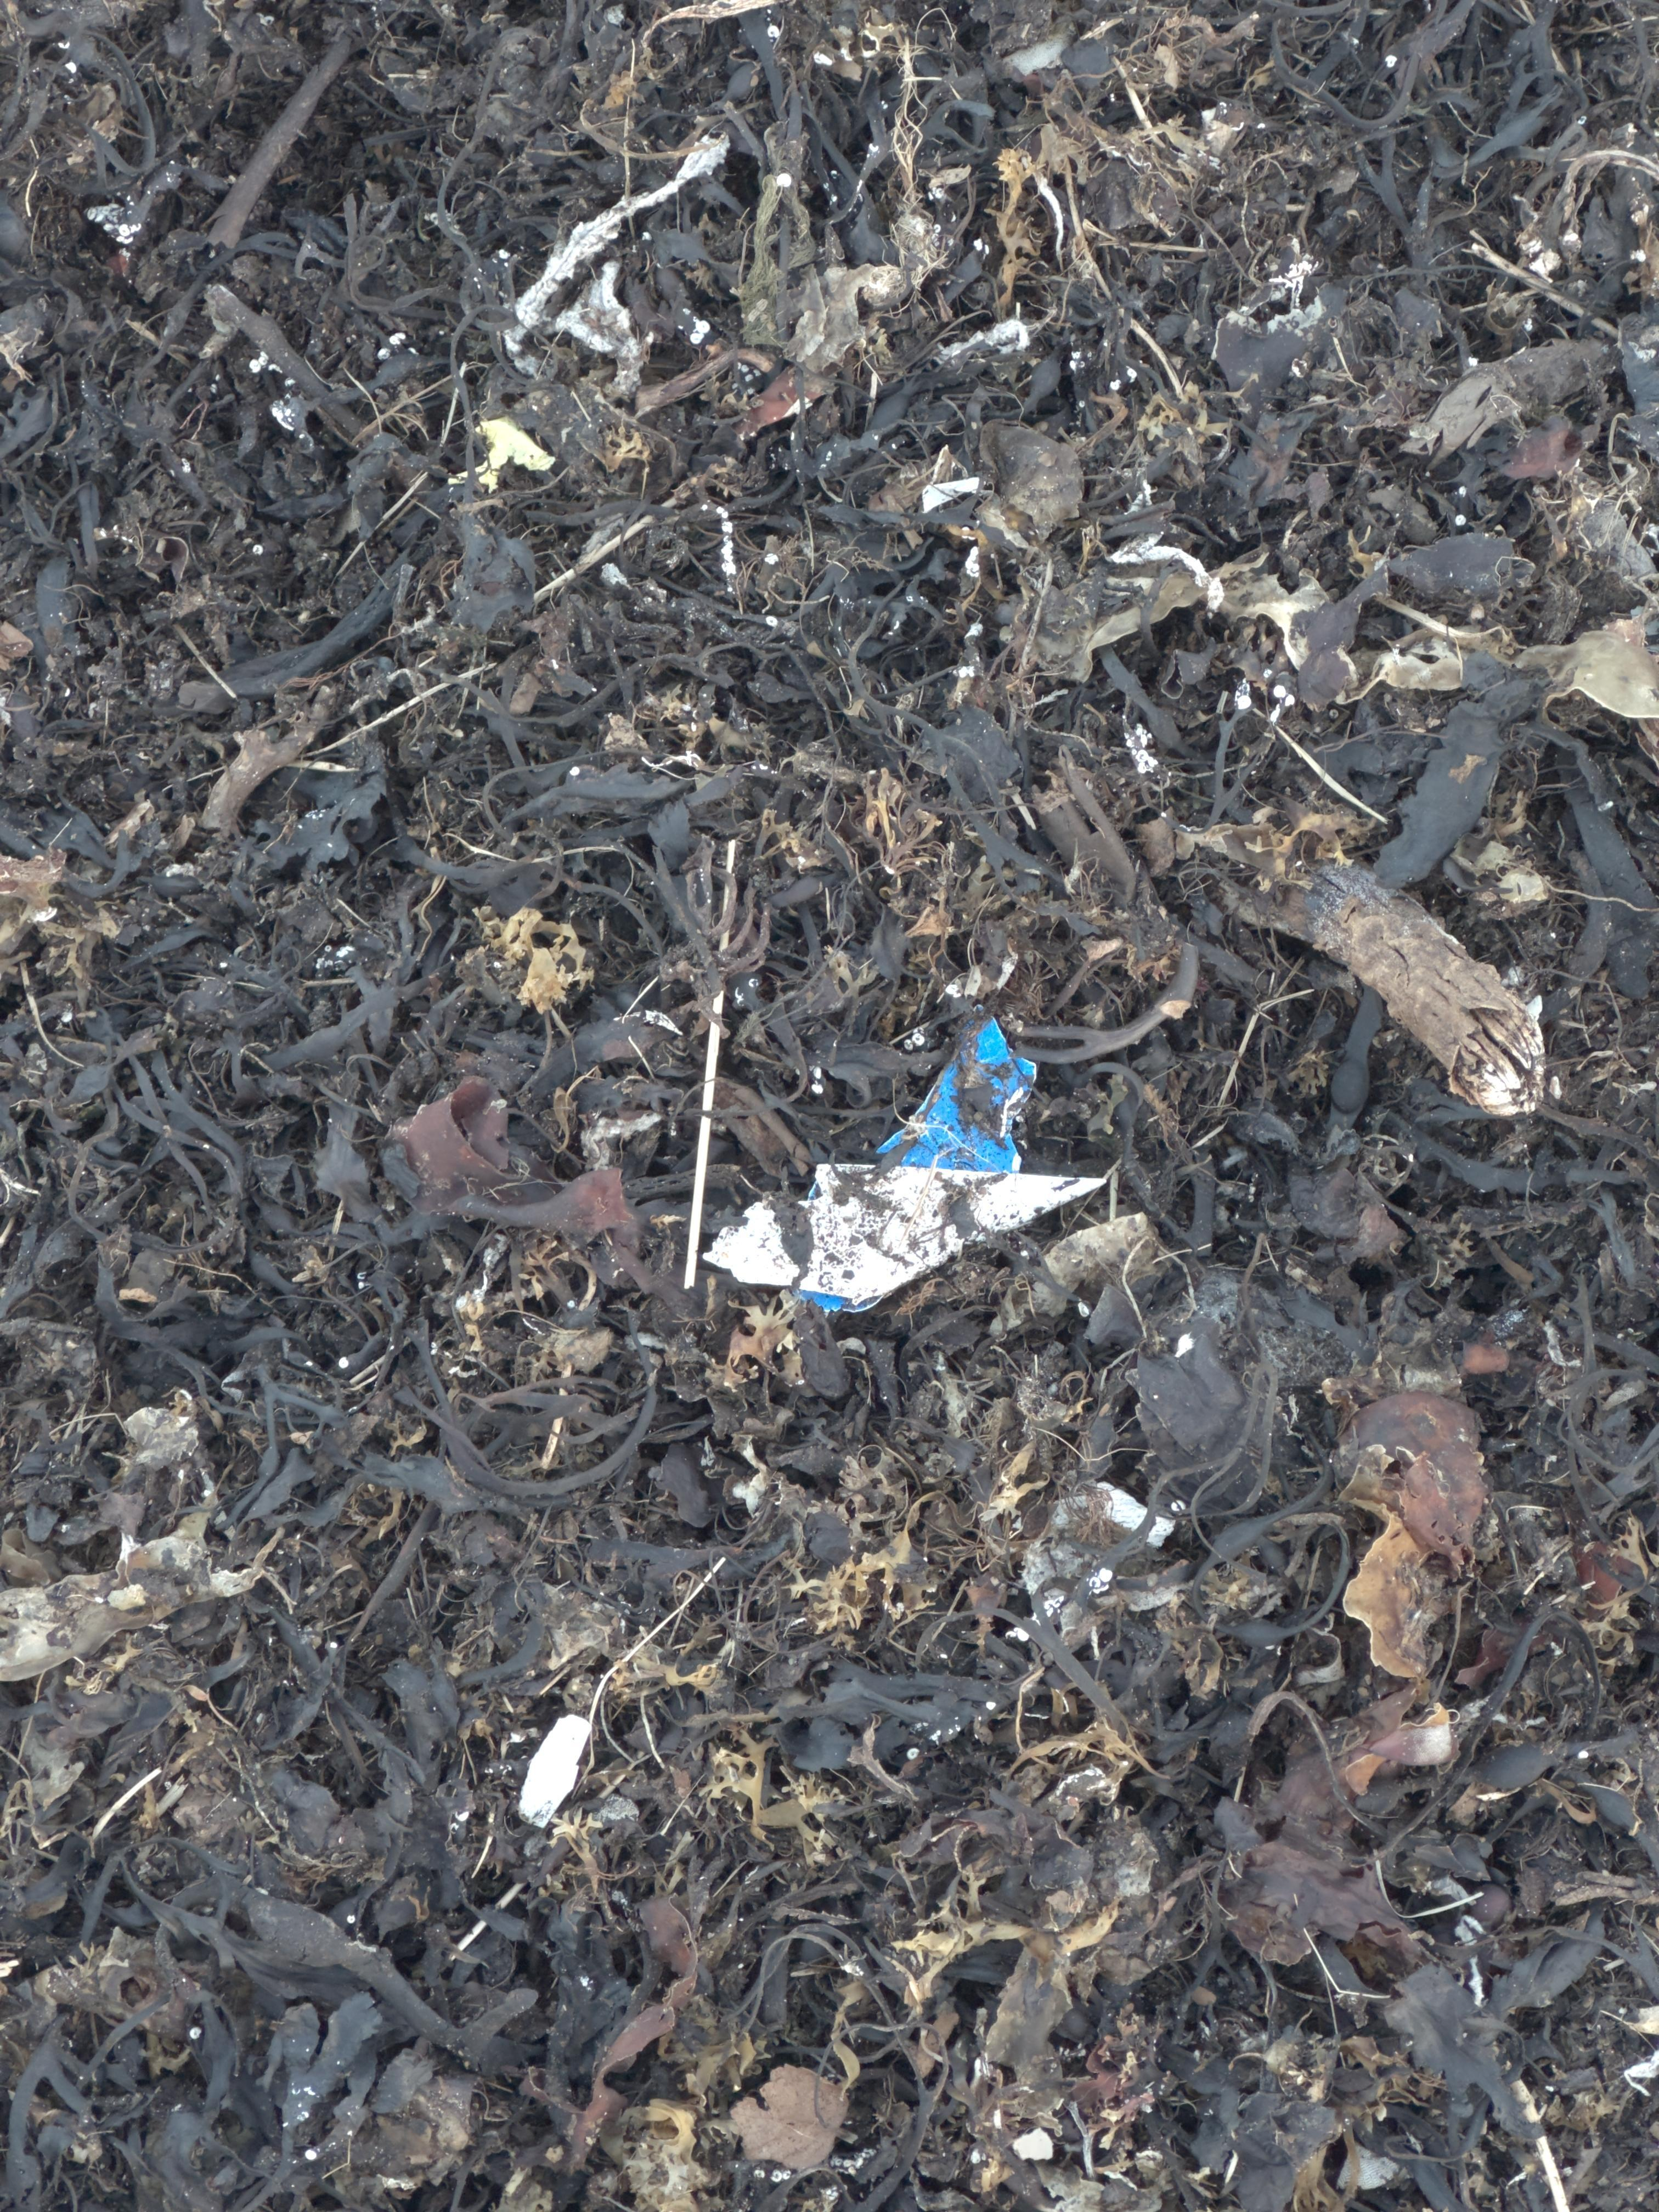trash: (704, 1015, 1106, 1309), (505, 138, 730, 354)
